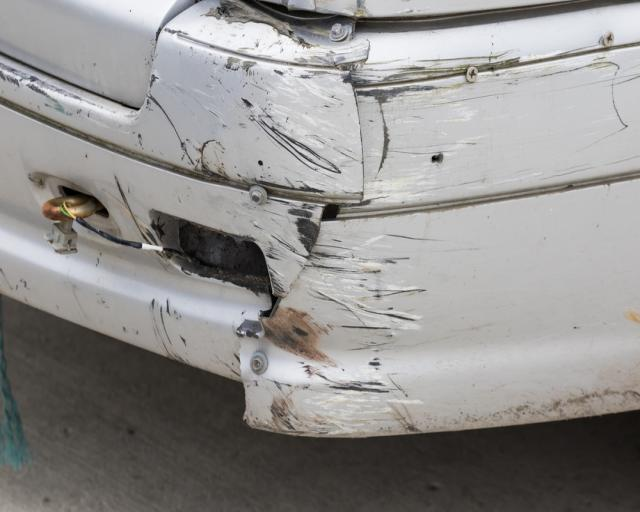crack: (258, 284, 278, 319)
scratch: (146, 16, 640, 205), (260, 195, 422, 436), (0, 63, 98, 118), (149, 298, 190, 362)
